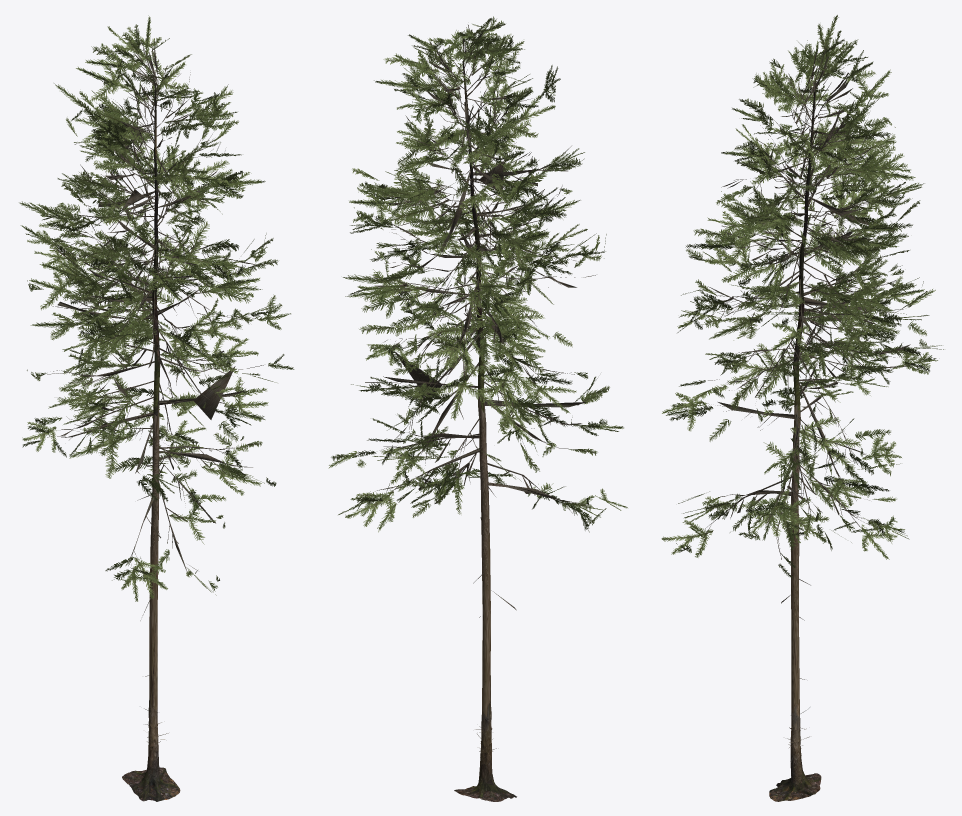
Rendered from fir-0-mid.glb.
3 views of the same model, side by side, from view 1: azimuth 30°, elevation 25°; view 2: azimuth 150°, elevation 25°; view 3: azimuth 270°, elevation 25° (orthographic). The views are drawn at different scales.
Parts seen in each view (by area): view 1: fir_0_mid; view 2: fir_0_mid; view 3: fir_0_mid.
Boxes of the visible parts, left/top/right/bottom form: fir_0_mid: left=19, top=15, right=294, bottom=801; fir_0_mid: left=328, top=16, right=627, bottom=801; fir_0_mid: left=661, top=15, right=943, bottom=801.
Bounding box in the file's own units: 5.08 × 14.15 × 4.82.
Materials: 3 (3 with a texture image).
